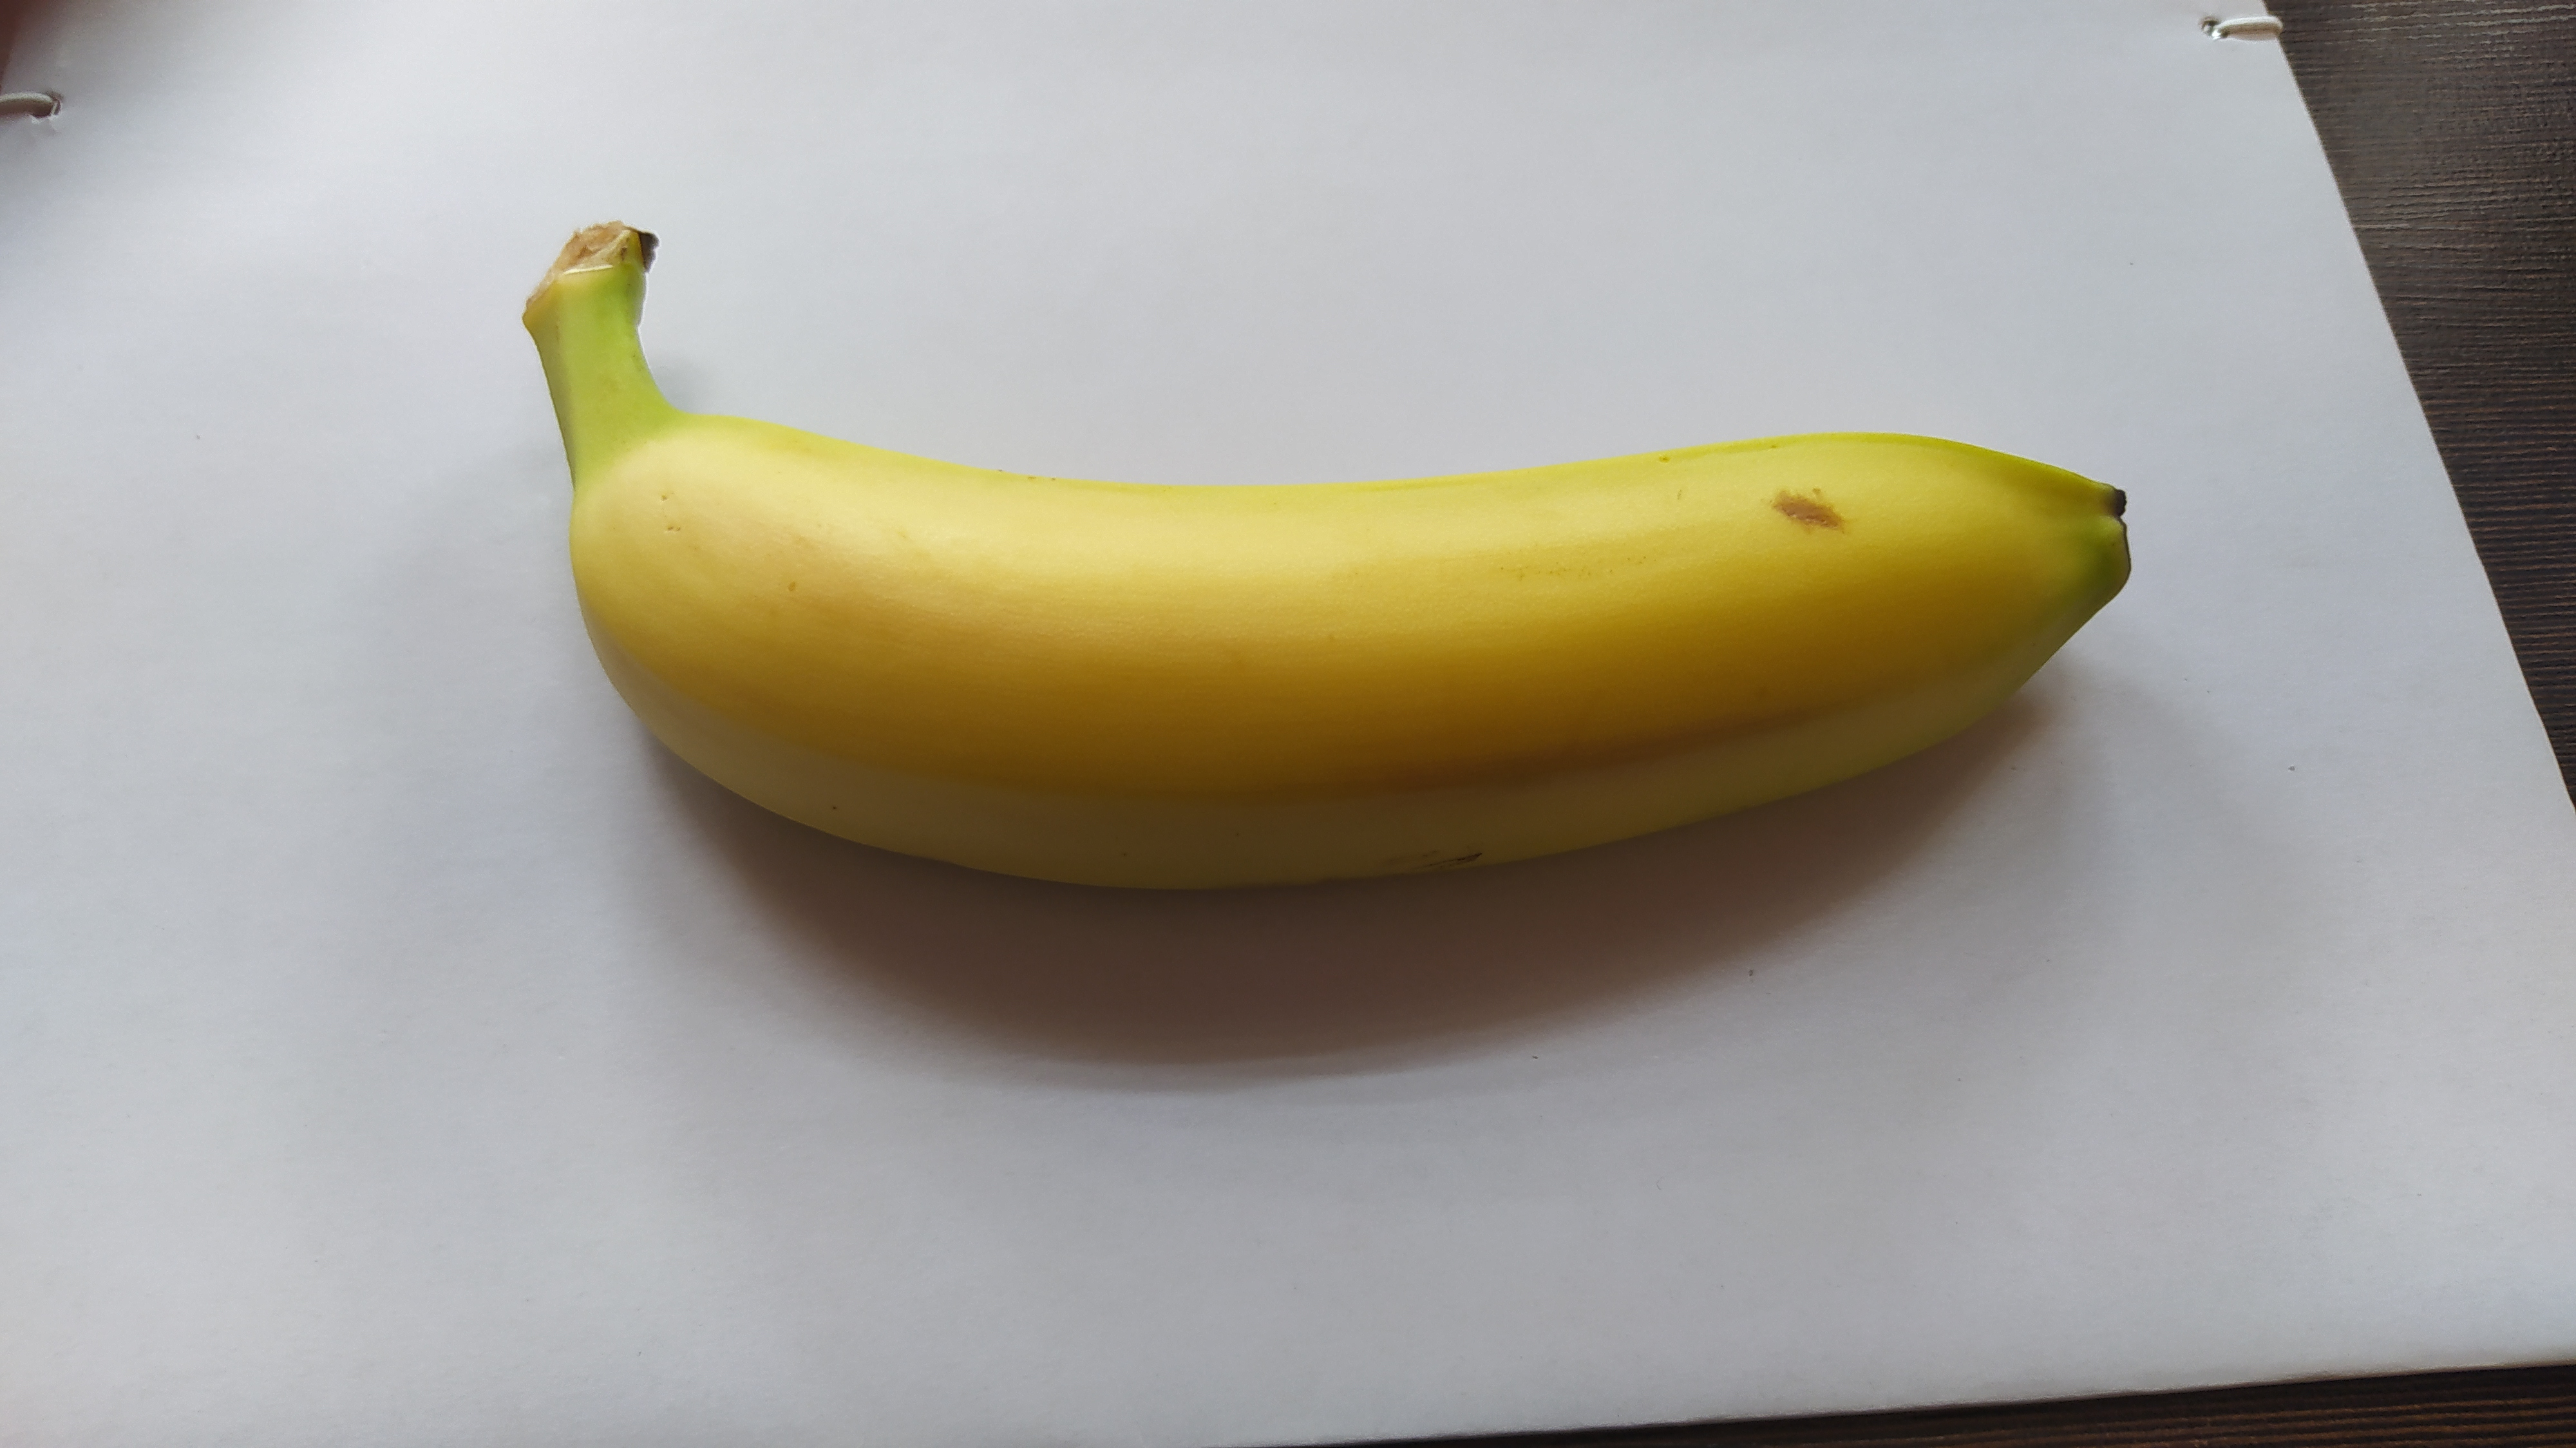banana: (518, 216, 2134, 894)
